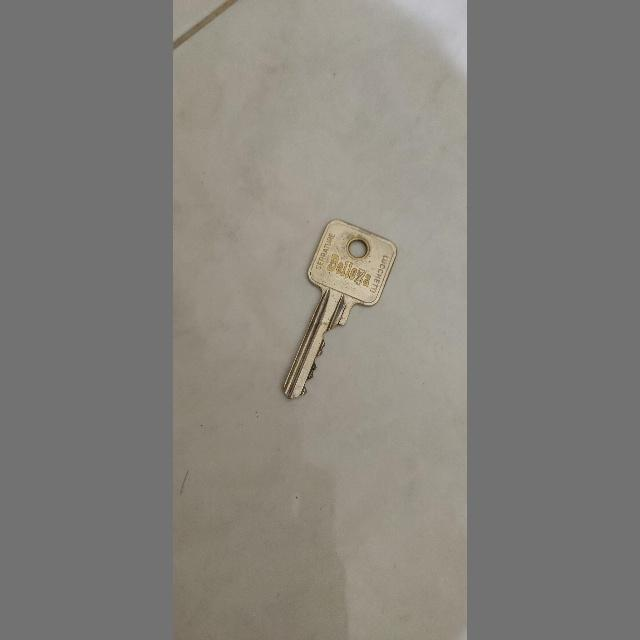Keys: (274, 208, 411, 412)
